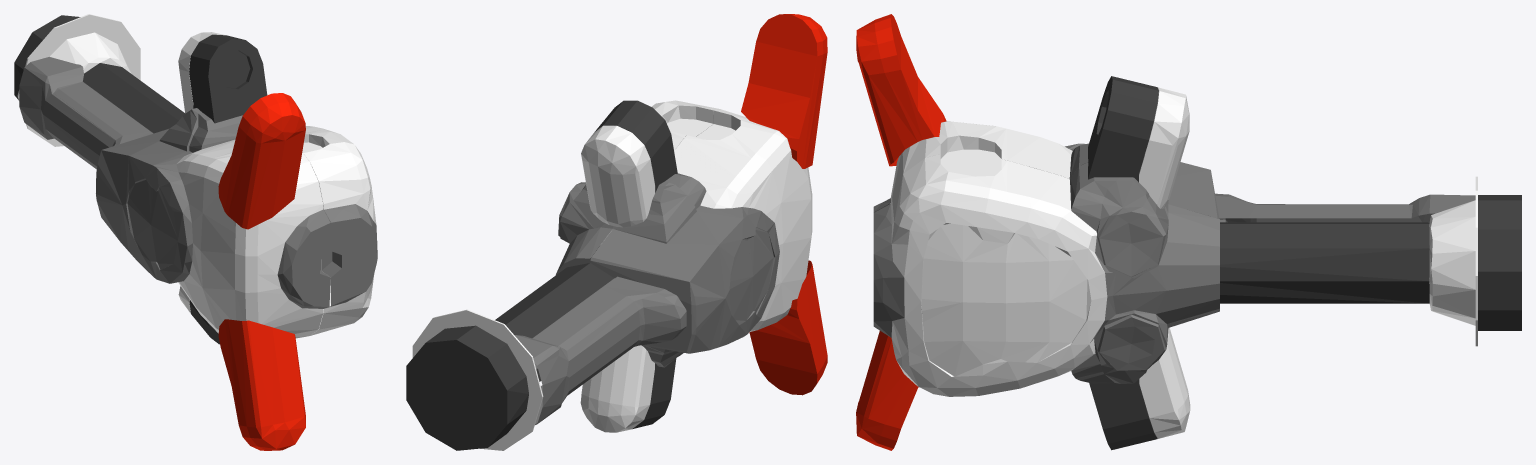
The model's file is CHEST_JOINT0_Link_mesh.obj.
3 views of the same model, side by side, from view 1: azimuth 30°, elevation 25°; view 2: azimuth 150°, elevation 25°; view 3: azimuth 270°, elevation 25° (orthographic). The views are drawn at different scales.
Parts seen in each view (by area): view 1: root, root.001, root.003, root.002; view 2: root, root.001, root.002, root.003; view 3: root.001, root.002, root, root.003.
Boxes of the visible parts, x1,y1,x2,y2 form: root: (19, 56, 377, 308); root.001: (17, 14, 376, 338); root.003: (218, 93, 305, 450); root.002: (14, 15, 267, 344); root: (515, 135, 779, 424); root.001: (412, 100, 812, 450); root.002: (406, 100, 677, 450); root.003: (741, 14, 827, 395); root.001: (890, 87, 1477, 438); root.002: (1088, 76, 1521, 450); root: (873, 143, 1475, 383); root.003: (856, 14, 946, 450).
Bounding box in the file's own units: 0.198 × 0.4107 × 0.5773.
